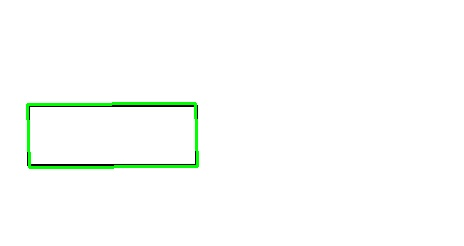line_segment: (26, 103, 199, 168)
